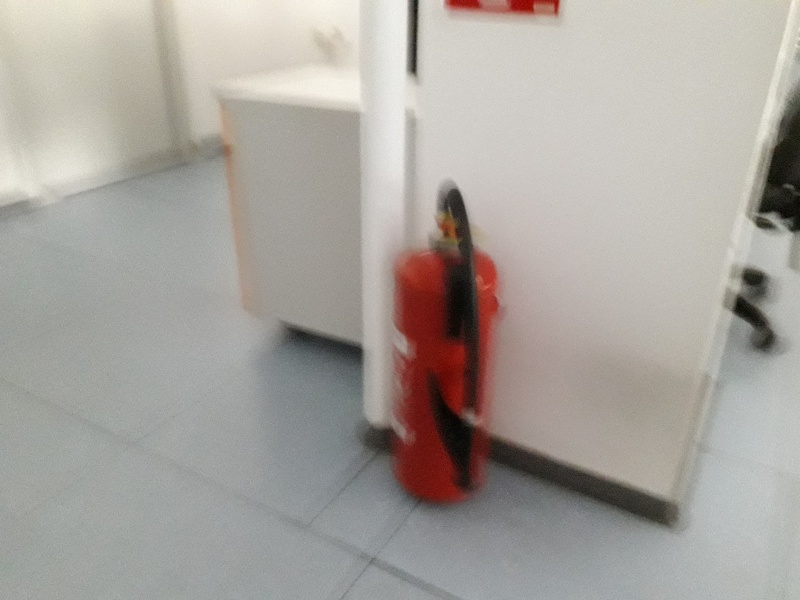vataparat: (394, 190, 497, 504)
